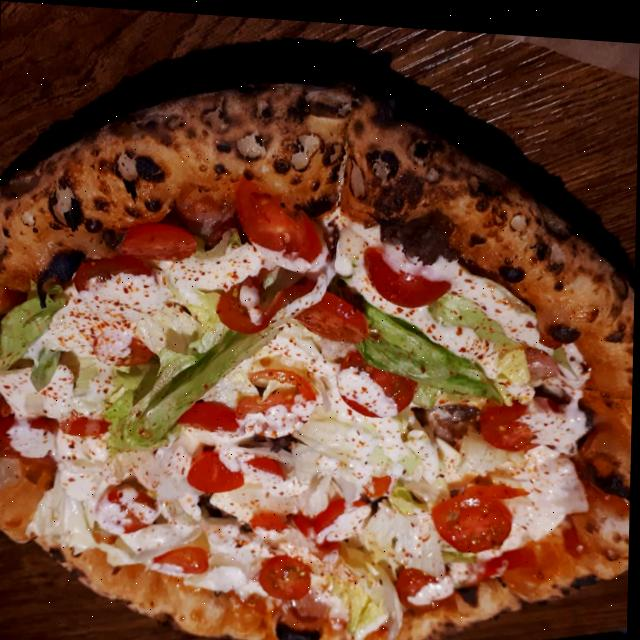pizza: (0, 55, 639, 640)
tomatoes: (234, 174, 328, 269), (429, 467, 531, 547), (335, 343, 420, 416), (238, 360, 315, 440), (360, 245, 453, 304), (291, 283, 369, 338), (115, 215, 203, 262), (478, 391, 544, 450), (297, 489, 372, 540), (95, 480, 161, 535), (76, 260, 160, 303), (392, 557, 454, 610), (62, 415, 119, 469), (94, 326, 159, 371), (217, 278, 270, 332), (189, 447, 246, 492), (261, 549, 314, 597), (176, 392, 240, 431), (151, 541, 212, 574), (21, 413, 63, 456), (349, 463, 394, 495), (247, 451, 290, 481), (285, 602, 332, 627)
